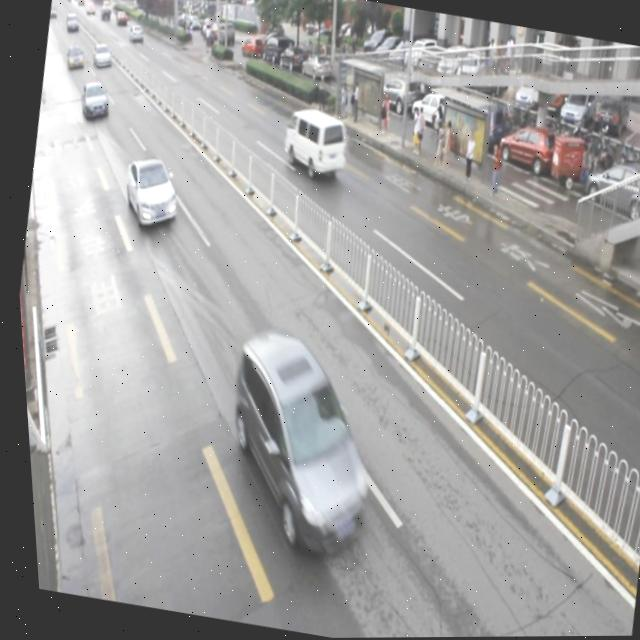car: (114, 152, 182, 231), (77, 79, 112, 123)
truck: (201, 324, 387, 556), (274, 103, 350, 178)
